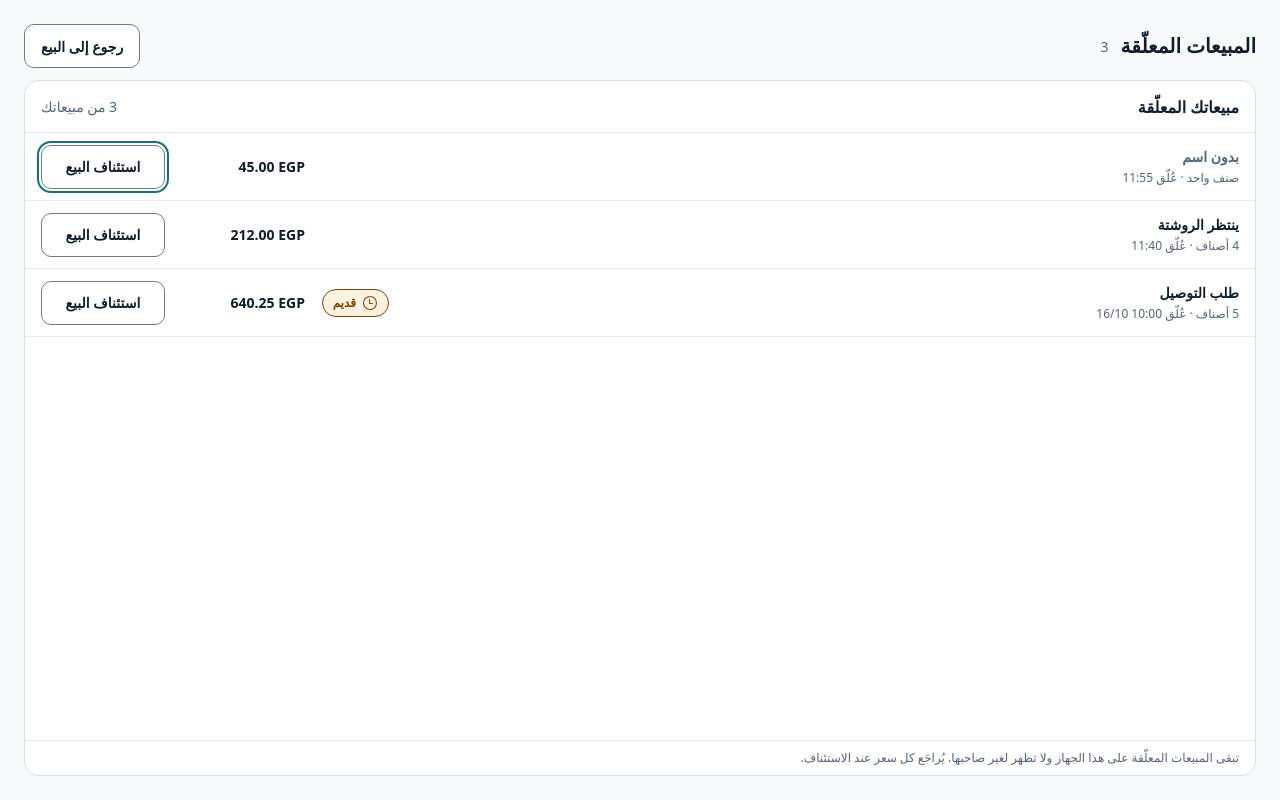
resume (spec 024 §3.3–§3.4) › OD-14: catalogue_unavailable shows the drawn refusal with «رجوع» only
This screenshot has width=1280, height=800.
Click the button "استئناف البيع" in the row of "ينتظر الروشتة". click: (103, 234)
box: [41,212,165,256]
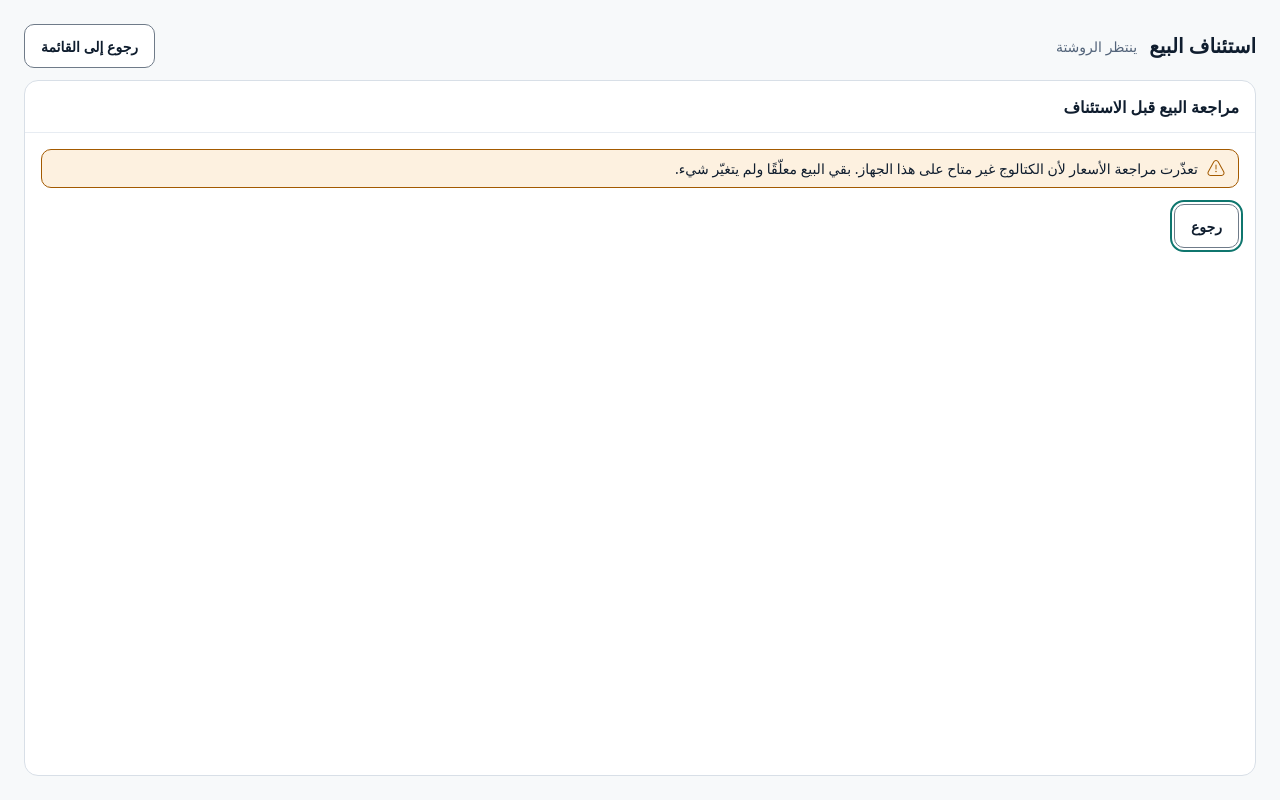
expect the text "تعذّرت مراجعة الأسعار لأن الكتالوج غير متاح على هذا الجهاز. بقي البيع معلّقًا ولم يتغيّر شيء." is shown: met, box [675,159,1198,178]
expect the buttons read "رجوع إلى القائمة", "رجوع", in this order: met, box [24,24,155,68]; [1174,204,1239,248]
